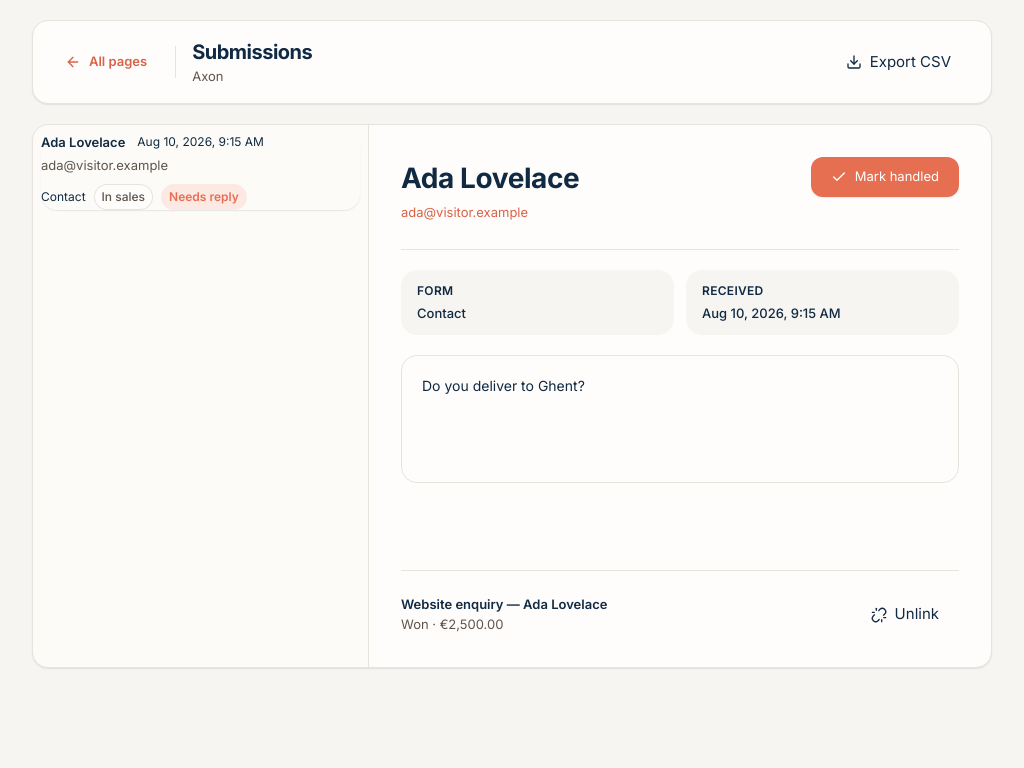
Test case: handing an enquiry to sales › an enquiry already handed over offers the way back, not a second card
Check: the text "In sales" is shown, box [94, 184, 153, 210]
Check: the button "Hand to sales" is not shown
What coordinates should you click on to do the following:
click the button "Unlink"
I would click on:
 (905, 614)
Its box is [851, 594, 959, 634].
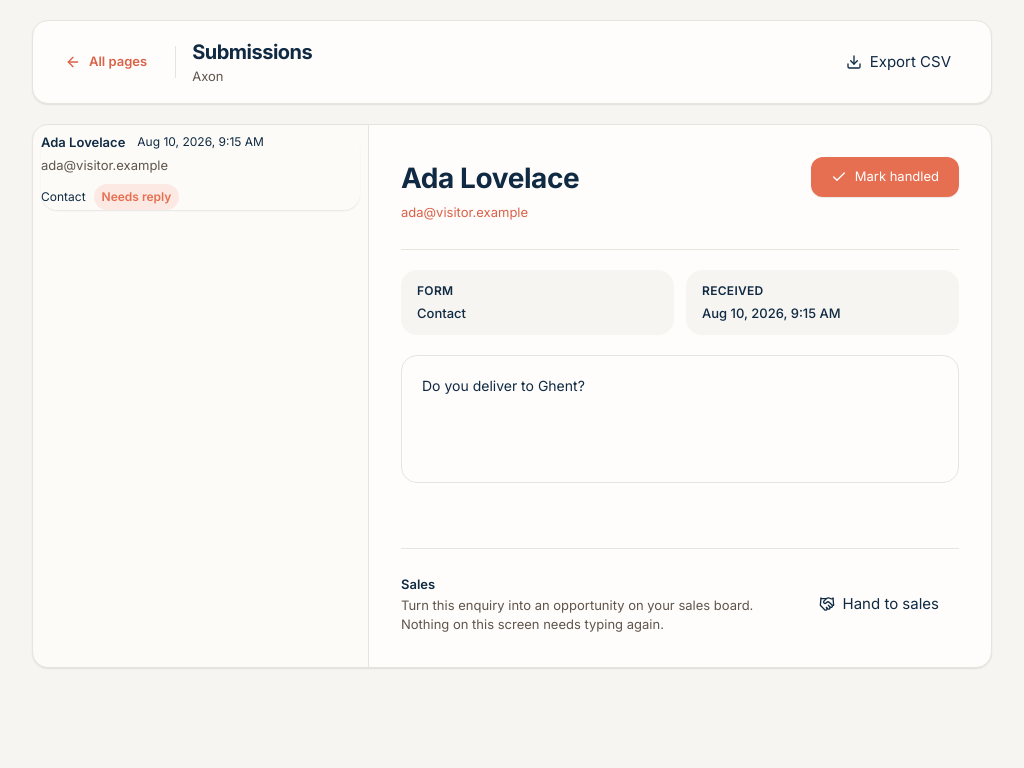
Check: the button "Hand to sales" is shown, box [798, 584, 959, 624]
